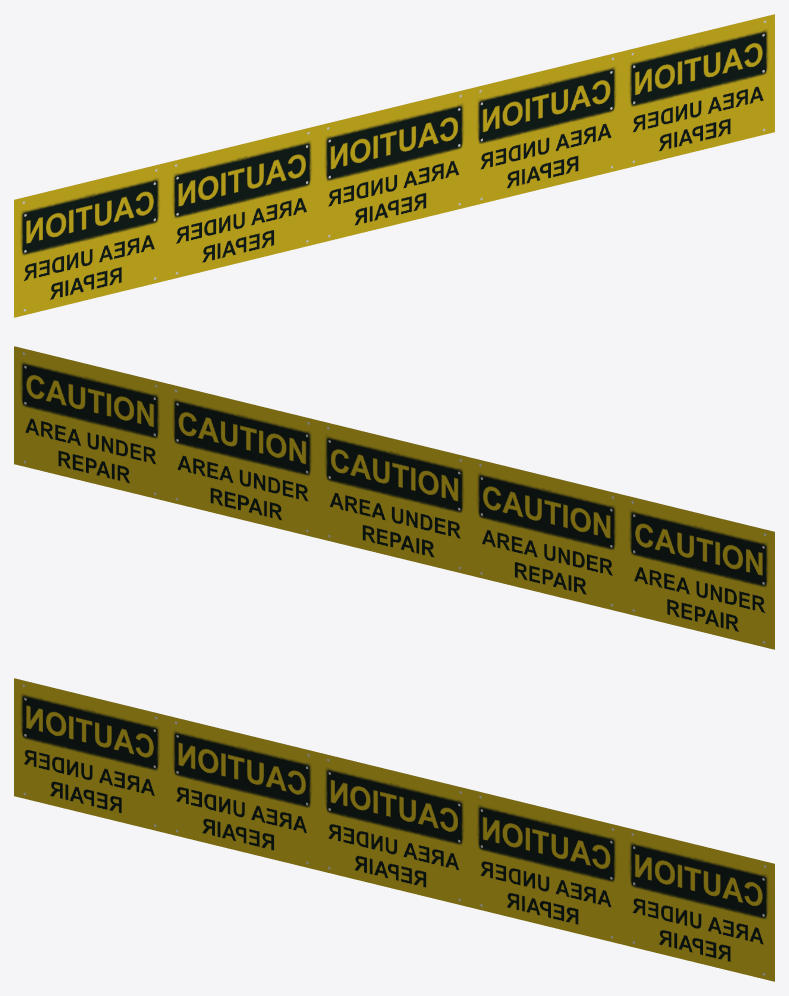
File: cautionshort.glb
3 views of the same model, one above another, from view 1: azimuth 30°, elevation 25°; view 2: azimuth 150°, elevation 25°; view 3: azimuth 330°, elevation 25° (orthographic).
Visible parts, largest first — view 1: cautionshort; view 2: cautionshort; view 3: cautionshort.
Part boxes in pixels (bbox=[...]): cautionshort: bbox=[14, 14, 774, 317]; cautionshort: bbox=[14, 346, 774, 649]; cautionshort: bbox=[14, 678, 774, 981].
Bounding box in the file's own units: 1.72 × 0.2551 × 1.11e-08.
1 material, 1 textured.
